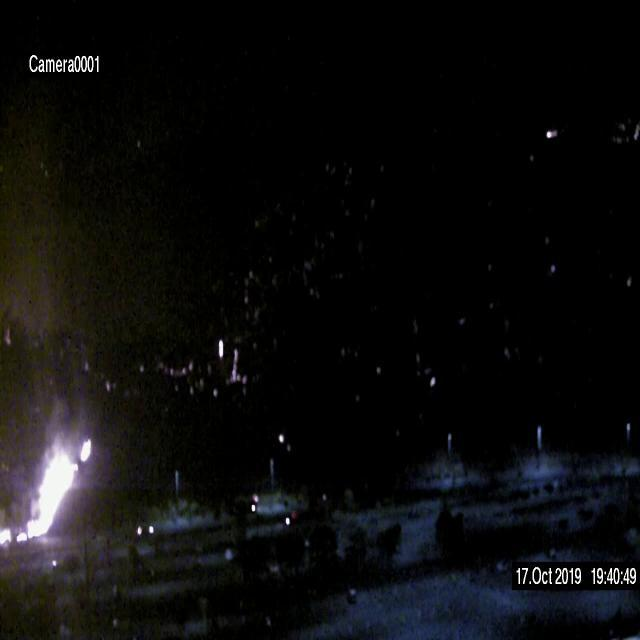Fire: (21, 455, 77, 541), (76, 436, 94, 462)
